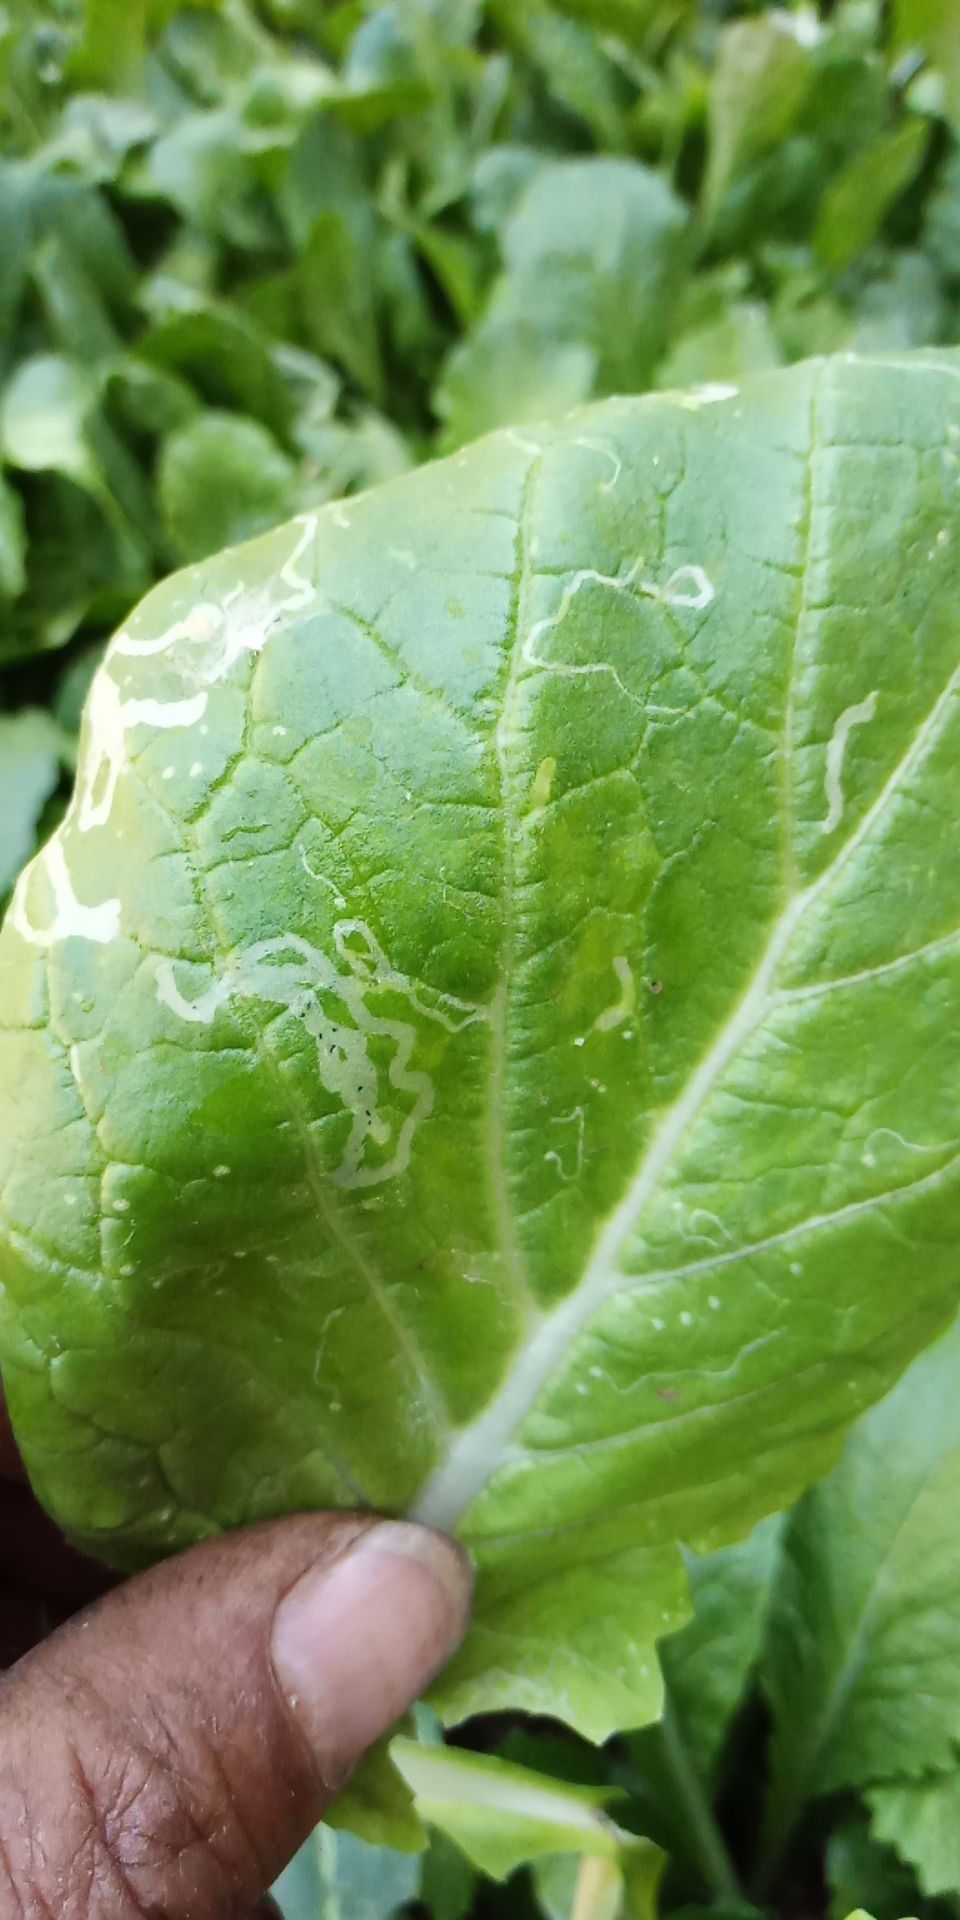liriomyza: (5, 509, 315, 944), (151, 909, 497, 1200), (513, 552, 731, 704), (579, 1322, 793, 1393), (800, 682, 885, 836), (847, 1118, 959, 1176), (538, 1102, 598, 1188), (591, 948, 643, 1040), (673, 1200, 743, 1251), (675, 376, 747, 414)
